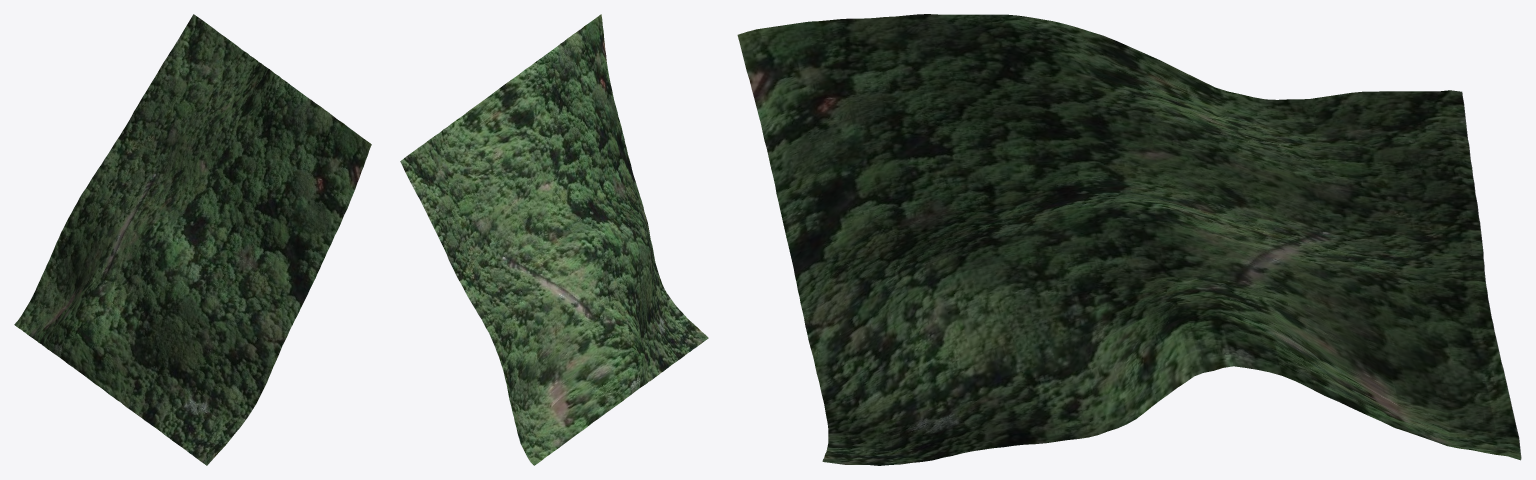
The picture shows the model from 3 angles, left to right: view 1: azimuth 30°, elevation 25°; view 2: azimuth 150°, elevation 25°; view 3: azimuth 270°, elevation 25°; orthographic projection. The views are drawn at different scales.
Size of the model in its own units: 184 by 273 by 341.
1 material, 1 textured.
